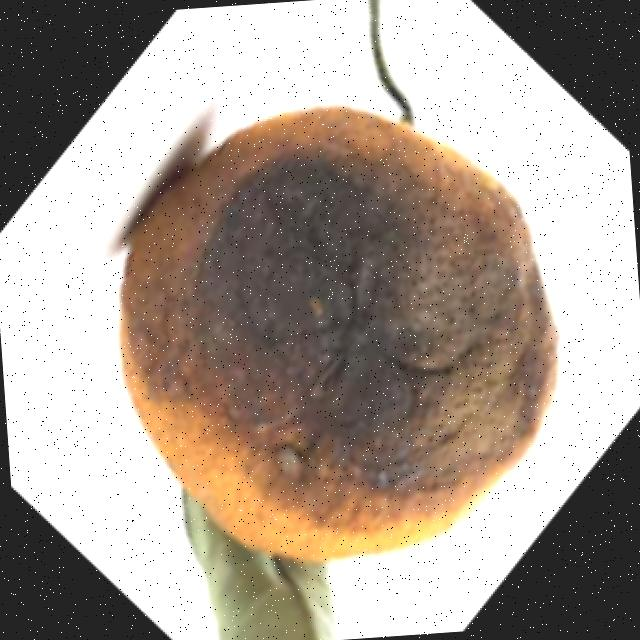Rotten: (101, 89, 576, 580)
